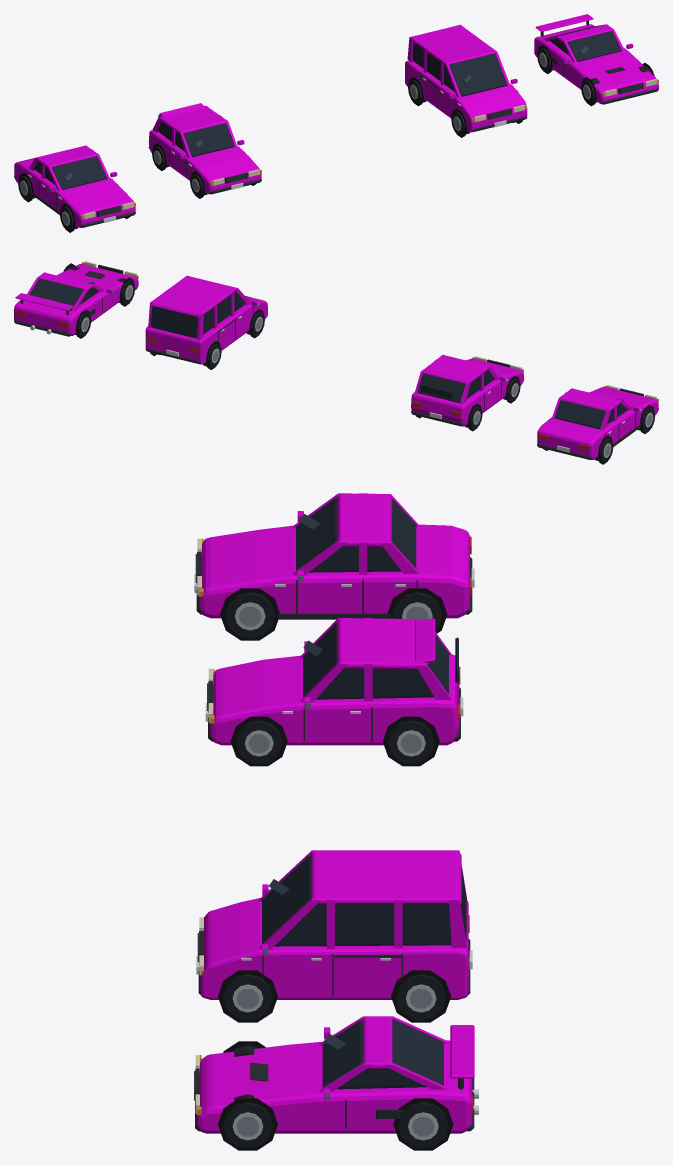
Rendered from cars-small.glb.
The picture shows the model from 3 angles, top to bottom: view 1: azimuth 30°, elevation 25°; view 2: azimuth 150°, elevation 25°; view 3: azimuth 270°, elevation 25°; orthographic projection. The views are drawn at different scales.
Visible parts, largest first — view 1: minivan_mesh, sports_mesh, hatchback_mesh, sedan_mesh; view 2: minivan_mesh, sedan_mesh, sports_mesh, hatchback_mesh; view 3: minivan_mesh, sedan_mesh, sports_mesh, hatchback_mesh.
Part boxes in pixels (<box>): minivan_mesh: <box>405,24,527,137</box>; sports_mesh: <box>534,14,658,106</box>; hatchback_mesh: <box>148,103,261,198</box>; sedan_mesh: <box>14,145,135,232</box>; minivan_mesh: <box>145,275,267,369</box>; sedan_mesh: <box>537,385,658,464</box>; sports_mesh: <box>14,261,138,338</box>; hatchback_mesh: <box>411,354,524,431</box>; minivan_mesh: <box>196,850,472,1022</box>; sedan_mesh: <box>194,493,474,640</box>; sports_mesh: <box>194,1016,478,1150</box>; hatchback_mesh: <box>205,618,463,766</box>.
Bounding box in the file's own units: 18.07 × 1.77 × 3.79.
